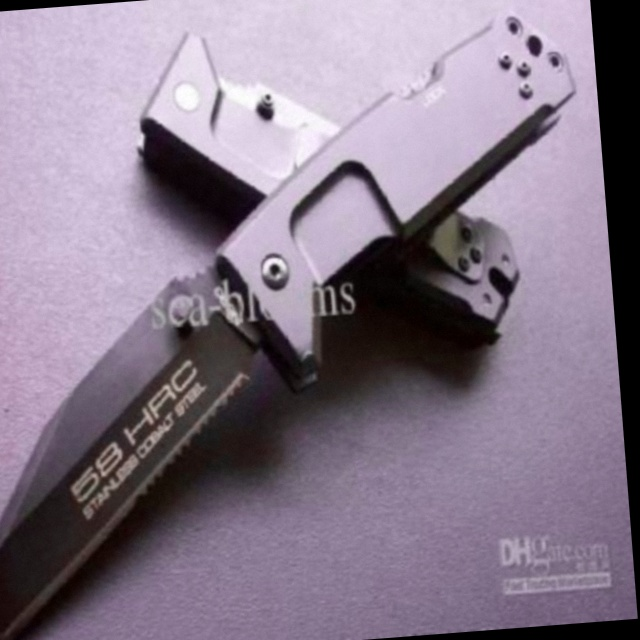Sharp-Object: (0, 9, 611, 640), (135, 10, 526, 369)
